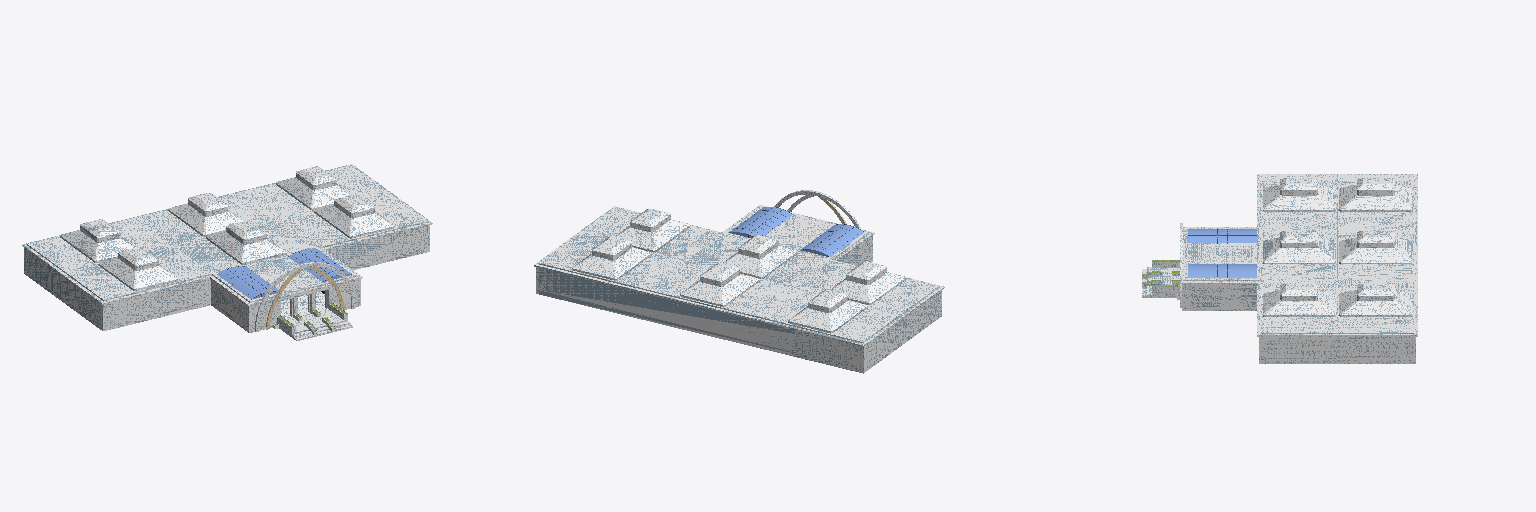
3 views of the same model, side by side, from view 1: azimuth 30°, elevation 25°; view 2: azimuth 150°, elevation 25°; view 3: azimuth 270°, elevation 25° (orthographic).
Visible parts, largest first — view 1: Mesh4 Group2 Model, Mesh253 Group46 Pi_ce_Standard3 Model, Mesh331 Group52 Pi_ce_Standard5 Model, Mesh30 Group6 Pi_ce_Standard1 Model, Mesh292 Group49 Pi_ce_Standard4 Model, Mesh370 Group55 Pi_ce_Standard6 Model, Mesh214 Group43 Pi_ce_Standard2 Model, Mesh12 Group3 Model, Mesh1 Group1 Model, Mesh67 Group10 Group9 Pi_ce_Standard_1_1 Model, Mesh15 Diff_rence Model, Mesh72 Group11 Arche_compl_te_01_1 Group9 Pi_ce_Standard_1_1 Mod (+1 smaller); view 2: Mesh4 Group2 Model, Mesh292 Group49 Pi_ce_Standard4 Model, Mesh214 Group43 Pi_ce_Standard2 Model, Mesh370 Group55 Pi_ce_Standard6 Model, Mesh253 Group46 Pi_ce_Standard3 Model, Mesh331 Group52 Pi_ce_Standard5 Model, Mesh30 Group6 Pi_ce_Standard1 Model, Mesh1 Group1 Model, Mesh67 Group10 Group9 Pi_ce_Standard_1_1 Model, Mesh12 Group3 Model, Mesh72 Group11 Arche_compl_te_01_1 Group9 Pi_ce_Standard_1_1 Mod, Mesh126 Group26 Arche_compl_te_01_2 Group9 Pi_ce_Standard_1_1 Mo (+1 smaller); view 3: Mesh4 Group2 Model, Mesh331 Group52 Pi_ce_Standard5 Model, Mesh370 Group55 Pi_ce_Standard6 Model, Mesh30 Group6 Pi_ce_Standard1 Model, Mesh214 Group43 Pi_ce_Standard2 Model, Mesh253 Group46 Pi_ce_Standard3 Model, Mesh292 Group49 Pi_ce_Standard4 Model, Mesh67 Group10 Group9 Pi_ce_Standard_1_1 Model, Mesh1 Group1 Model, Mesh12 Group3 Model, Mesh126 Group26 Arche_compl_te_01_2 Group9 Pi_ce_Standard_1_1 Mo, Mesh72 Group11 Arche_compl_te_01_1 Group9 Pi_ce_Standard_1_1 Mod.
Part boxes in pixels (left/top/right/bottom): Mesh4 Group2 Model: left=24, top=225, right=429, bottom=332; Mesh253 Group46 Pi_ce_Standard3 Model: left=65, top=246, right=211, bottom=300; Mesh331 Group52 Pi_ce_Standard5 Model: left=281, top=193, right=427, bottom=247; Mesh30 Group6 Pi_ce_Standard1 Model: left=174, top=219, right=318, bottom=273; Mesh292 Group49 Pi_ce_Standard4 Model: left=27, top=218, right=172, bottom=272; Mesh370 Group55 Pi_ce_Standard6 Model: left=243, top=165, right=388, bottom=218; Mesh214 Group43 Pi_ce_Standard2 Model: left=135, top=191, right=279, bottom=245; Mesh12 Group3 Model: left=24, top=248, right=429, bottom=340; Mesh1 Group1 Model: left=22, top=164, right=432, bottom=305; Mesh67 Group10 Group9 Pi_ce_Standard_1_1 Model: left=212, top=247, right=357, bottom=302; Mesh15 Diff_rence Model: left=255, top=262, right=355, bottom=331; Mesh72 Group11 Arche_compl_te_01_1 Group9 Pi_ce_Standard_1_1 Mod: left=217, top=266, right=278, bottom=298; Mesh4 Group2 Model: left=536, top=236, right=941, bottom=368; Mesh292 Group49 Pi_ce_Standard4 Model: left=755, top=288, right=900, bottom=342; Mesh214 Group43 Pi_ce_Standard2 Model: left=647, top=261, right=791, bottom=316; Mesh370 Group55 Pi_ce_Standard6 Model: left=539, top=235, right=684, bottom=290; Mesh253 Group46 Pi_ce_Standard3 Model: left=794, top=260, right=939, bottom=314; Mesh331 Group52 Pi_ce_Standard5 Model: left=578, top=207, right=722, bottom=260; Mesh30 Group6 Pi_ce_Standard1 Model: left=686, top=233, right=830, bottom=287; Mesh1 Group1 Model: left=534, top=205, right=944, bottom=346; Mesh67 Group10 Group9 Pi_ce_Standard_1_1 Model: left=724, top=205, right=869, bottom=259; Mesh12 Group3 Model: left=536, top=257, right=941, bottom=373; Mesh72 Group11 Arche_compl_te_01_1 Group9 Pi_ce_Standard_1_1 Mod: left=801, top=224, right=863, bottom=256; Mesh126 Group26 Arche_compl_te_01_2 Group9 Pi_ce_Standard_1_1 Mo: left=730, top=207, right=792, bottom=237; Mesh4 Group2 Model: left=1152, top=260, right=1415, bottom=358; Mesh331 Group52 Pi_ce_Standard5 Model: left=1261, top=280, right=1337, bottom=333; Mesh370 Group55 Pi_ce_Standard6 Model: left=1338, top=280, right=1413, bottom=333; Mesh30 Group6 Pi_ce_Standard1 Model: left=1261, top=227, right=1337, bottom=279; Mesh214 Group43 Pi_ce_Standard2 Model: left=1338, top=227, right=1413, bottom=279; Mesh253 Group46 Pi_ce_Standard3 Model: left=1261, top=175, right=1337, bottom=226; Mesh292 Group49 Pi_ce_Standard4 Model: left=1338, top=175, right=1413, bottom=226; Mesh67 Group10 Group9 Pi_ce_Standard_1_1 Model: left=1184, top=227, right=1260, bottom=280; Mesh1 Group1 Model: left=1181, top=174, right=1417, bottom=336; Mesh12 Group3 Model: left=1142, top=267, right=1415, bottom=363; Mesh126 Group26 Arche_compl_te_01_2 Group9 Pi_ce_Standard_1_1 Mo: left=1188, top=264, right=1256, bottom=277; Mesh72 Group11 Arche_compl_te_01_1 Group9 Pi_ce_Standard_1_1 Mod: left=1188, top=229, right=1256, bottom=242.
Size of the model in its own units: 39.8 by 6.43 by 28.8.